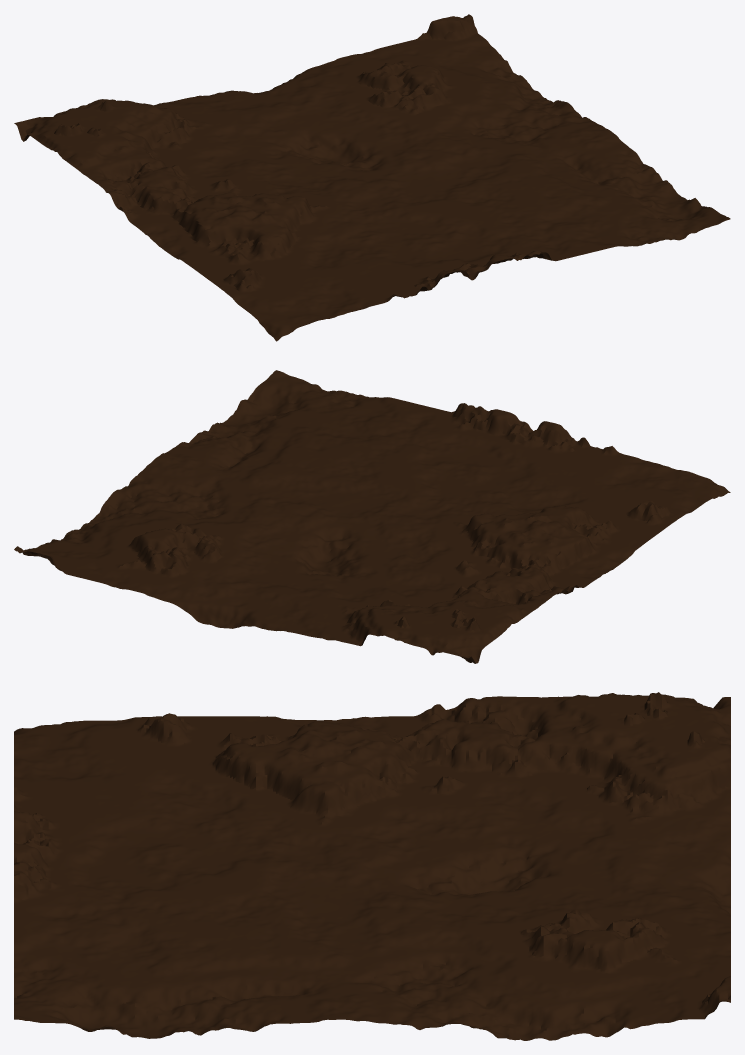
Rendered from 2x2.3_Squares_200m_003.glb.
3 renders of one model, top to bottom at view 1: azimuth 30°, elevation 25°; view 2: azimuth 150°, elevation 25°; view 3: azimuth 270°, elevation 25°, orthographic. The views are drawn at different scales.
Visible parts, largest first — view 1: Cube; view 2: Cube; view 3: Cube.
Boxes of the visible parts, left/top/right/bottom form: Cube: left=14, top=14, right=730, bottom=341; Cube: left=14, top=370, right=730, bottom=663; Cube: left=14, top=692, right=730, bottom=1040.
Size of the model in its own units: 500 by 46.78 by 500.
